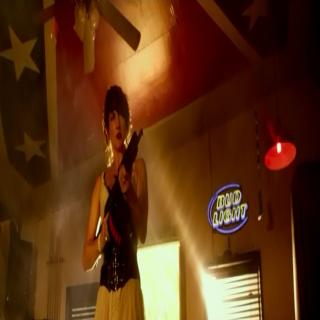gun: (95, 122, 148, 240)
